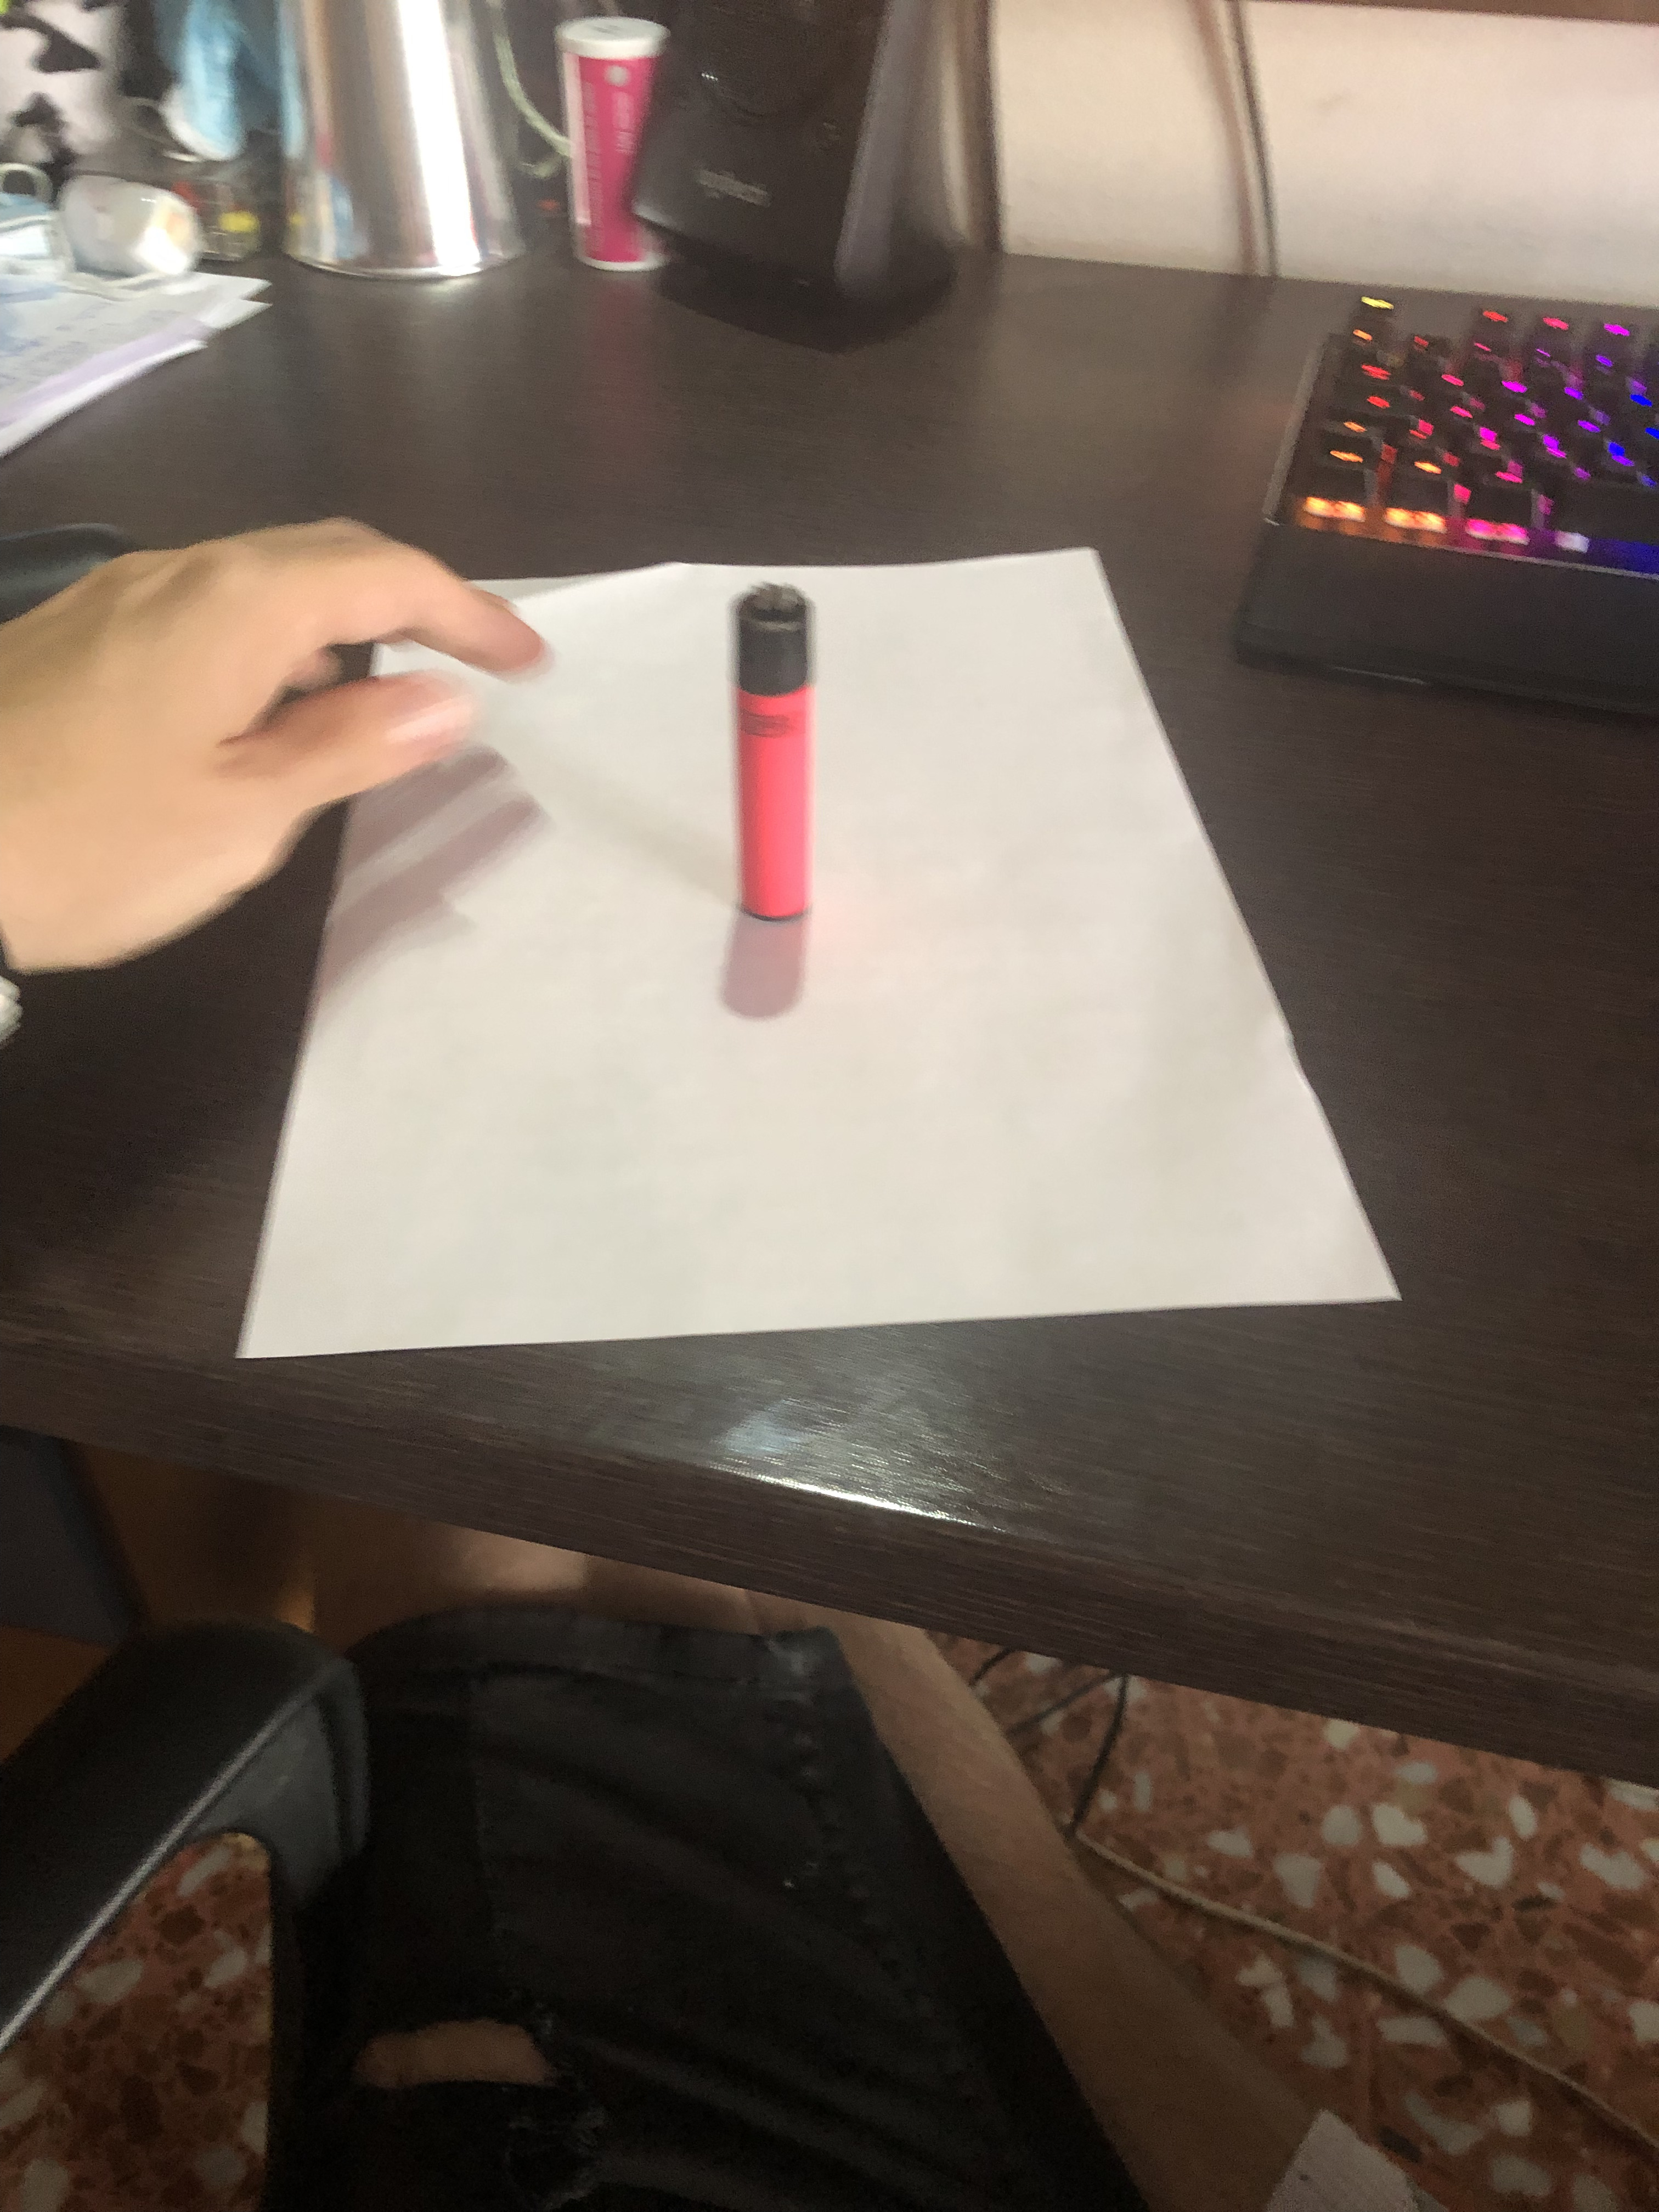Mechero: (720, 571, 817, 939)
